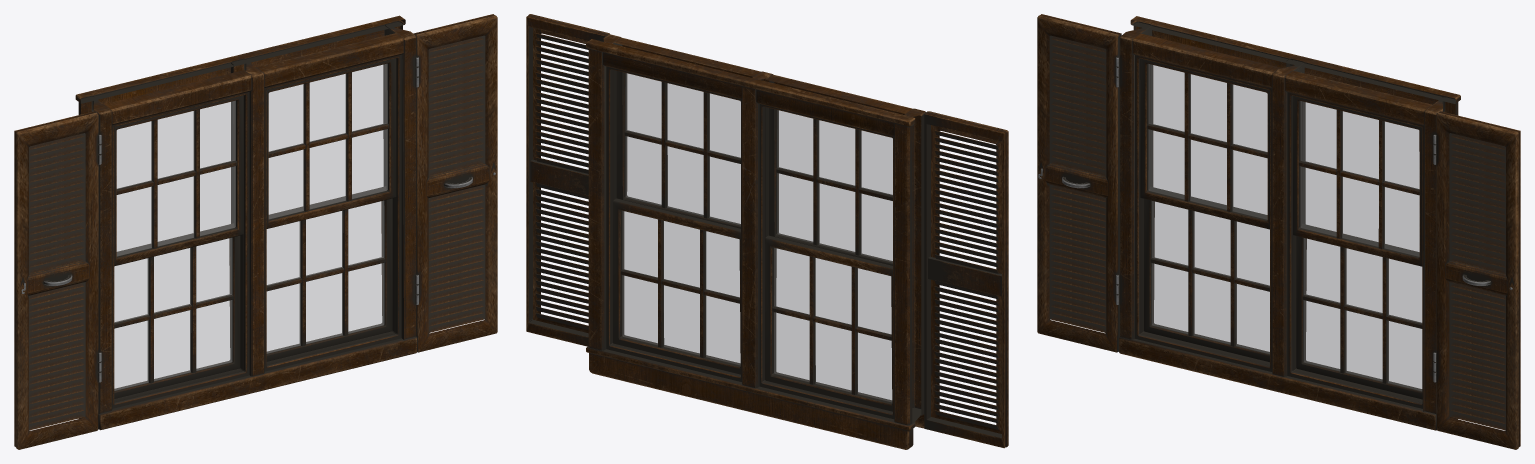
File: window__wodden_4_mb.glb
3 renders of one model, left to right at view 1: azimuth 30°, elevation 25°; view 2: azimuth 150°, elevation 25°; view 3: azimuth 330°, elevation 25°, orthographic.
Parts seen in each view (by area): view 1: 1_01_0, Glass, Null, Null_1; view 2: 1_01_0, Glass, Null, Null_1; view 3: 1_01_0, Glass, Null_1, Null.
Part boxes in pixels (x1=…): 1_01_0: x1=75, y1=15, x2=417, y2=430; Glass: x1=114, y1=64, x2=387, y2=390; Null: x1=14, y1=111, x2=98, y2=449; Null_1: x1=413, y1=14, x2=497, y2=352; 1_01_0: x1=586, y1=34, x2=925, y2=449; Glass: x1=622, y1=73, x2=892, y2=402; Null: x1=924, y1=111, x2=1008, y2=448; Null_1: x1=526, y1=14, x2=609, y2=346; 1_01_0: x1=1119, y1=16, x2=1460, y2=430; Glass: x1=1148, y1=64, x2=1421, y2=390; Null_1: x1=1436, y1=111, x2=1520, y2=449; Null: x1=1037, y1=14, x2=1121, y2=352.
Bounding box in the file's own units: 2.31 × 1.52 × 0.221.
3 materials, 2 textured.
